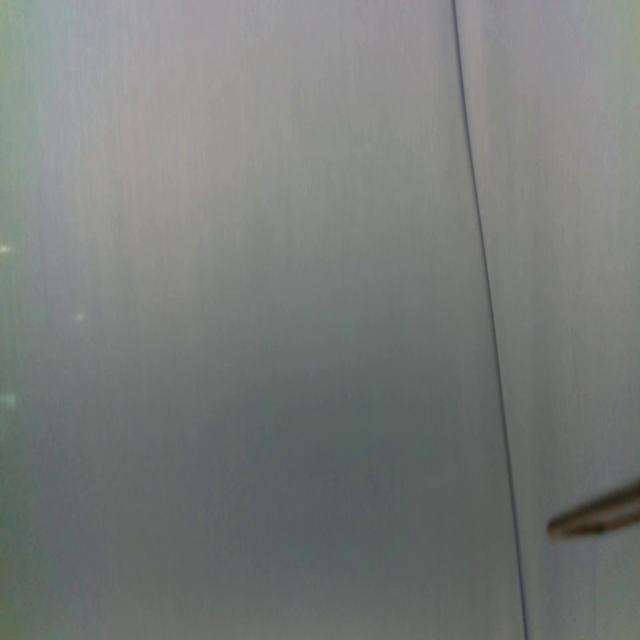crease: (452, 0, 528, 640)
